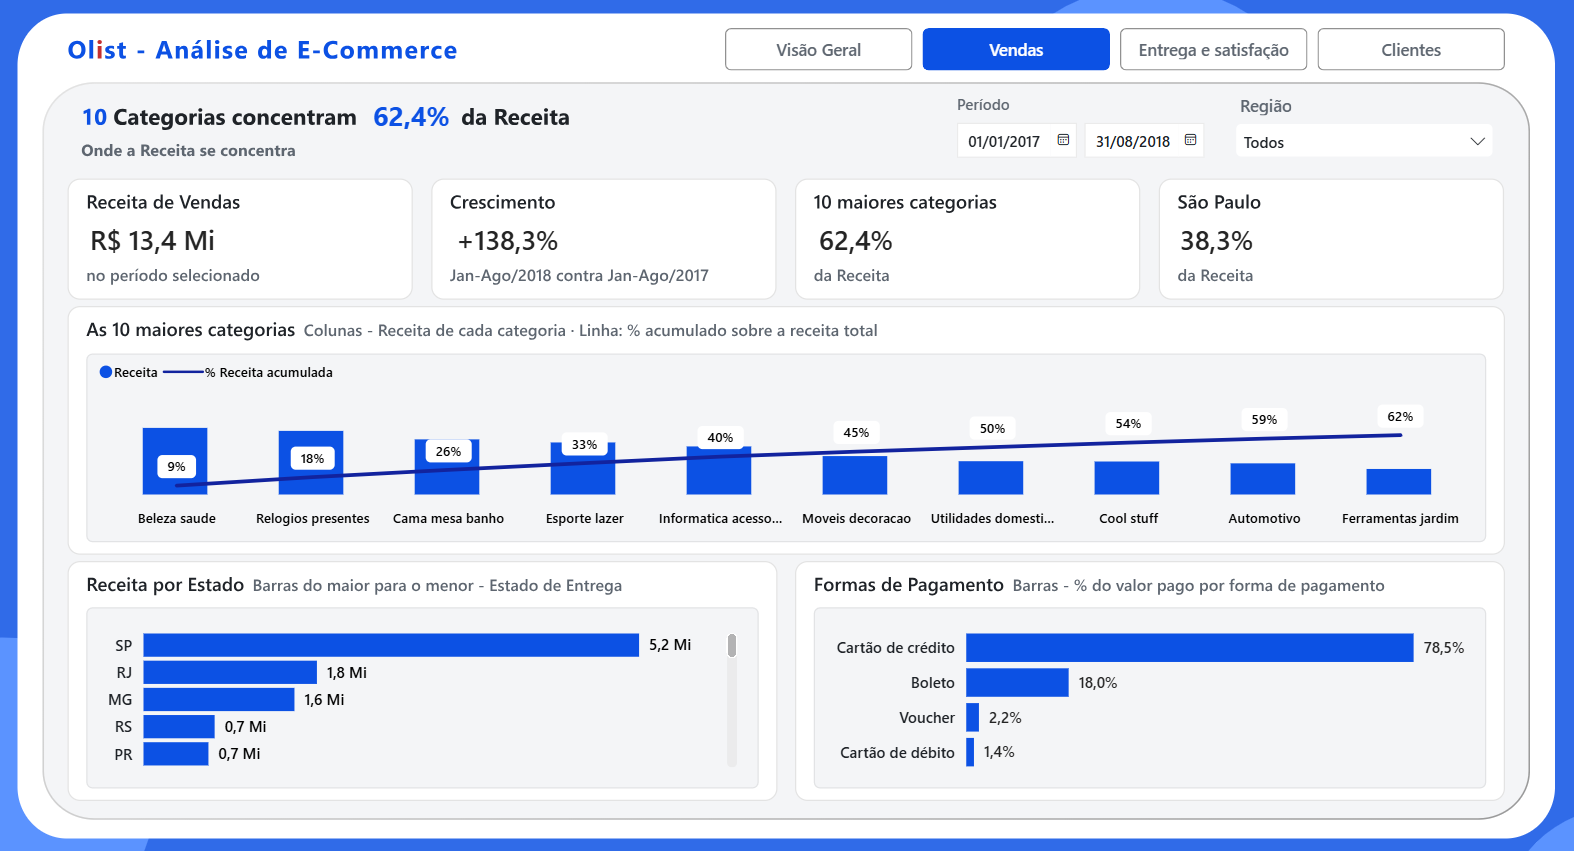

The dashboard page shown, as its layout file describes it:
{"tool":"powerbi","page":{"name":"Vendas","canvas":[1280,720],"ordinal":1},"visuals":[{"type":"pageNavigator","box":[592,41.3,624.3,35],"z":0},{"type":"slicer","fields":{"Values":["dUF.regiao"]},"box":[996.3,94.6,215.3,60.1],"z":1000},{"type":"slicer","fields":{"Values":["dCalendario.Data"]},"box":[769.4,94.6,218,60.1],"z":2000},{"type":"barChart","fields":{"Category":["dUF.uf"],"Y":["Medidas.Receita"]},"box":[81.2,504.4,536.8,145.2],"z":3000},{"type":"clusteredBarChart","fields":{"Category":["fPagamentos.forma_pagamento"],"Y":["Medidas.% do valor pago"]},"box":[663.9,504.4,535.9,145.2],"z":4000},{"type":"cardVisual","fields":{"Data":["Medidas.Receita"]},"box":[68,192,140,35],"z":5000},{"type":"cardVisual","fields":{"Data":["Medidas.Var. receita jan-ago"]},"box":[361.1,192,139.5,35.3],"z":6000},{"type":"cardVisual","fields":{"Data":["Medidas.% Receita top 10 categorias"]},"box":[651,192,140,35],"z":7000},{"type":"cardVisual","fields":{"Data":["Medidas.% Receita SP"]},"box":[939.9,192,139.5,35.3],"z":8000},{"type":"lineClusteredColumnComboChart","fields":{"Category":["dProdutos.categoria"],"Y":["Medidas.Receita"],"Y2":["Medidas.% Receita acumulada"]},"box":[75.6,288.9,1124.4,170.7],"z":9000},{"type":"cardVisual","fields":{"Data":["Medidas.% Receita top 10 categorias"]},"box":[294.2,92.7,105.1,35.3],"z":9001}]}

Visuals, with their boxes on the page's 1280x720 design canvas (x1, y1, x2, y2). These are canvas units, not pixel positions in the 1574x851 screenshot, which may show the page scaled, cropped or inside an application window:
pageNavigator: (x1=592, y1=41, x2=1216, y2=76)
slicer - dUF.regiao: (x1=996, y1=95, x2=1212, y2=155)
slicer - dCalendario.Data: (x1=769, y1=95, x2=987, y2=155)
barChart - dUF.uf x Medidas.Receita: (x1=81, y1=504, x2=618, y2=650)
clusteredBarChart - fPagamentos.forma_pagamento x Medidas.% do valor pago: (x1=664, y1=504, x2=1200, y2=650)
cardVisual - Medidas.Receita: (x1=68, y1=192, x2=208, y2=227)
cardVisual - Medidas.Var. receita jan-ago: (x1=361, y1=192, x2=501, y2=227)
cardVisual - Medidas.% Receita top 10 categorias: (x1=651, y1=192, x2=791, y2=227)
cardVisual - Medidas.% Receita SP: (x1=940, y1=192, x2=1079, y2=227)
lineClusteredColumnComboChart - dProdutos.categoria x Medidas.Receita: (x1=76, y1=289, x2=1200, y2=460)
cardVisual - Medidas.% Receita top 10 categorias: (x1=294, y1=93, x2=399, y2=128)
